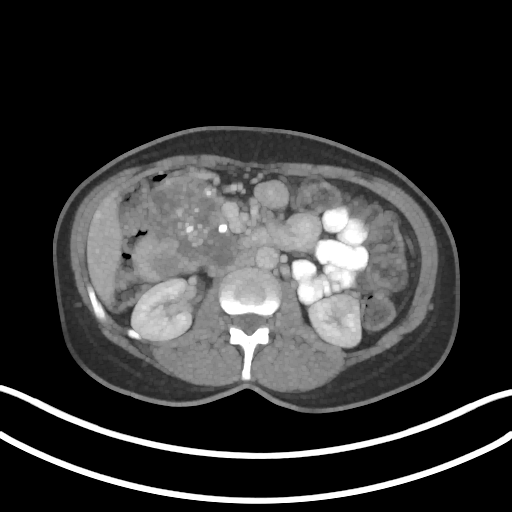Lesion: (328, 296, 360, 319)
